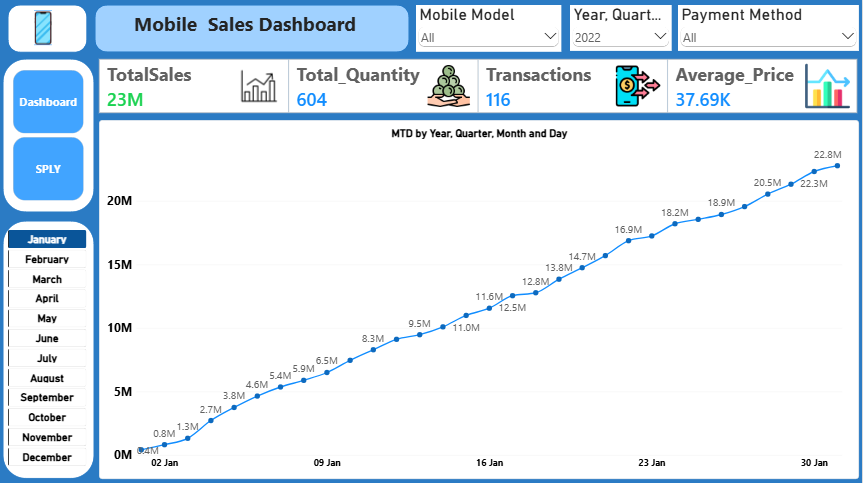

This screenshot's page, from the dashboard's own definition file:
{"tool":"powerbi","page":{"name":"MTD","canvas":[1920,1080],"ordinal":1},"visuals":[{"type":"shape","box":[22.5,10,175,105],"z":0},{"type":"image","box":[80,22.5,40,77.5],"z":1000},{"type":"shape","box":[11.1,131.1,202.2,340],"z":2000},{"type":"cardVisual","fields":{"Data":["Mobile Sales Data.TotalSales","Mobile Sales Data.Total_Units_Sold","Mobile Sales Data.Transactions","Mobile Sales Data.Average_Price"]},"box":[224.4,131.1,1688.9,120],"z":3000},{"type":"slicer","fields":{"Values":["Mobile Sales Data.Mobile Model"]},"box":[929.8,10.6,323.4,104.3],"z":4000},{"type":"slicer","fields":{"Values":["Mobile Sales Data.Payment Method"]},"box":[1510.6,10.6,402.1,102.1],"z":5000},{"type":"slicer","fields":{"Values":["Date Calender.Date.Variation.Date Hierarchy.Year","Date Calender.Date.Variation.Date Hierarchy.Quarter","Date Calender.Date.Variation.Date Hierarchy.Month","Date Calender.Date.Variation.Date Hierarchy.Day"]},"box":[1270.2,10.6,225.5,102.1],"z":6000},{"type":"shape","box":[215,10,697.8,104.4],"z":7000},{"type":"textbox","box":[269.8,23.3,560.5,69.8],"z":8000},{"type":"lineChart","fields":{"Category":["Date Calender.Date.Variation.Date Hierarchy.Year","Date Calender.Date.Variation.Date Hierarchy.Quarter","Date Calender.Date.Variation.Date Hierarchy.Month","Date Calender.Date.Variation.Date Hierarchy.Day"],"Y":["Mobile Sales Data.MTD"]},"box":[224.4,266.7,1688.9,797.8],"z":9000},{"type":"shape","box":[11.6,490.7,202.3,572.1],"z":10000},{"type":"pageNavigator","box":[33.3,155.6,157.8,291.1],"z":11000},{"type":"advancedSlicerVisual","fields":{"Values":["Date Calender.Date.Variation.Date Hierarchy.Month"]},"box":[23.3,511.6,174.4,525.6],"z":12000}]}

Visuals, with their boxes in screenshot pixels (x1, y1, x2, y2), scaled from the page's 1920x1080 canvas onto the 863x483 screenshot:
shape: bbox=(10, 4, 89, 51)
image: bbox=(36, 10, 54, 45)
shape: bbox=(5, 59, 96, 211)
cardVisual - Mobile Sales Data.TotalSales x Mobile Sales Data.Total_Units_Sold: bbox=(101, 59, 860, 112)
slicer - Mobile Sales Data.Mobile Model: bbox=(418, 5, 563, 51)
slicer - Mobile Sales Data.Payment Method: bbox=(679, 5, 860, 50)
slicer - Date Calender.Date.Variation.Date Hierarchy.Year x Date Calender.Date.Variation.Date Hierarchy.Quarter: bbox=(571, 5, 672, 50)
shape: bbox=(97, 4, 410, 51)
textbox: bbox=(121, 10, 373, 42)
lineChart - Date Calender.Date.Variation.Date Hierarchy.Year x Date Calender.Date.Variation.Date Hierarchy.Quarter: bbox=(101, 119, 860, 476)
shape: bbox=(5, 219, 96, 475)
pageNavigator: bbox=(15, 70, 86, 200)
advancedSlicerVisual - Date Calender.Date.Variation.Date Hierarchy.Month: bbox=(10, 229, 89, 464)
